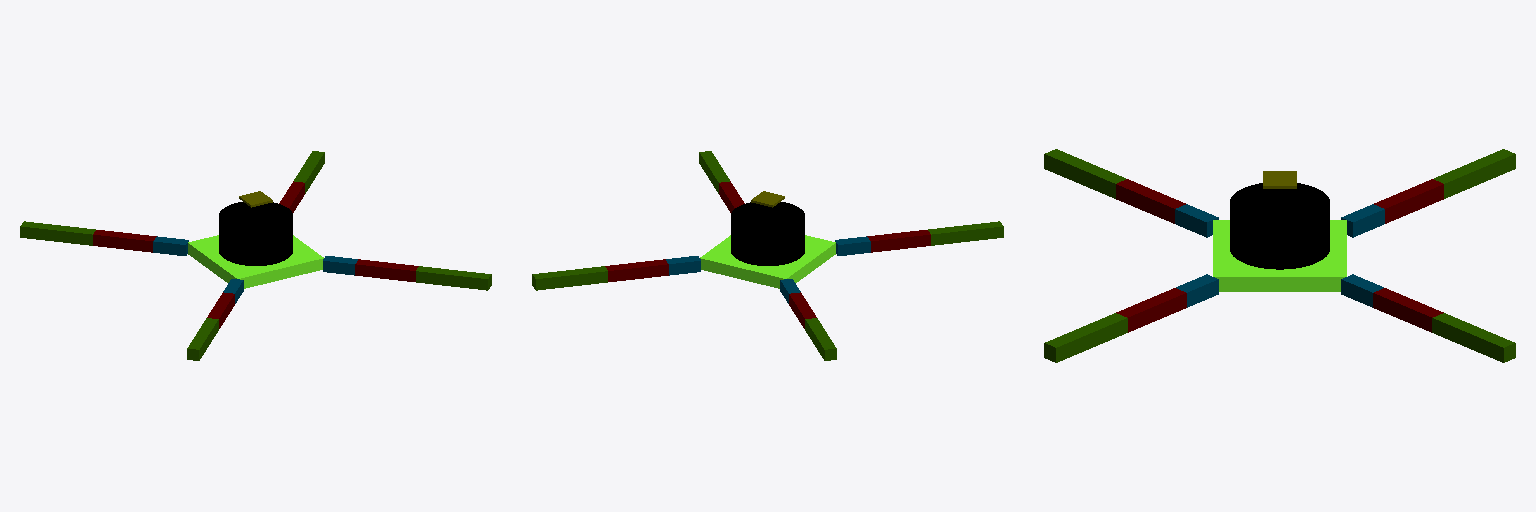
robot.urdf — robot:
<?xml version="1.0" encoding="utf-8"?>

<robot name="robot">
  <link name="base_footprint"></link>
  <joint name="base_joint" type="fixed">
    <parent link="base_footprint" />
    <child link="base_link" />
    <origin xyz="0 0 0.005" rpy="0 0 0" />
  </joint>
  <link name="base_link">
    <visual>
      <origin xyz="0 0 0" rpy="0 0 0" />
      <geometry>
        <box size="0.08 0.08 0.01" />
      </geometry>
      <material name="base_link-material">
        <color rgba="0.5 1 0.2 1" />
      </material>
    </visual>
    <collision>
      <origin xyz="0 0 0" rpy="0 0 0" />
      <geometry>
        <box size="0.08 0.08 0.01" />
      </geometry>
    </collision>
    <inertial>
      <origin xyz="0 0 0" rpy="0 0 0" />
      <mass value="0.1" />
      <inertia ixx="0.0" ixy="0" ixz="0" iyy="0.0" iyz="0" izz="0.0" />
    </inertial>
  </link>
  <joint name="FRcoxa" type="revolute">
    <parent link="base_link" />
    <child link="coxa1" />
    <origin xyz="0.04 0.04 0" rpy="0 0 -0.7853981633974485" />
    <axis xyz="0 0 1"/>
    <limit effort="0.0" lower="-1" upper="1" velocity="0.5"/>  </joint>
  <link name="coxa1">
    <visual>
      <origin xyz="0 0.0135 0" rpy="0 0 0" />
      <geometry>
        <box size="0.01 0.027 0.01" />
      </geometry>
      <material name="coxa1-material">
        <color rgba="0.0 0.3 0.4 1" />
      </material>
    </visual>
    <collision>
      <origin xyz="0 0.0135 0" rpy="0 0 0" />
      <geometry>
        <box size="0.01 0.027 0.01" />
      </geometry>
    </collision>
    <inertial>
      <origin xyz="0 0.0135 0" rpy="0 0 0" />
      <mass value="0.1" />
      <inertia ixx="0.0" ixy="0" ixz="0" iyy="0.0" iyz="0" izz="0.0" />
    </inertial>
  </link>
  <joint name="FRfemur" type="revolute">
    <parent link="coxa1" />
    <child link="femur1" />
    <origin xyz="0 0.027 0" rpy="3.141592653589793 -1.5707963267948966 3.141592653589793" />
    <axis xyz="0 0 1"/>
    <limit effort="0.0" lower="-1" upper="1" velocity="0.5"/>  </joint>
  <link name="femur1">
    <visual>
      <origin xyz="0 0.025 0" rpy="0 0 0" />
      <geometry>
        <box size="0.01 0.05 0.01" />
      </geometry>
      <material name="femur1-material">
        <color rgba="0.4 0.0 0.0 1" />
      </material>
    </visual>
    <collision>
      <origin xyz="0 0.025 0" rpy="0 0 0" />
      <geometry>
        <box size="0.01 0.05 0.01" />
      </geometry>
    </collision>
    <inertial>
      <origin xyz="0 0.025 0" rpy="0 0 0" />
      <mass value="0.1" />
      <inertia ixx="0.0" ixy="0" ixz="0" iyy="0.0" iyz="0" izz="0.0" />
    </inertial>
  </link>
  <joint name="FRtibia" type="revolute">
    <parent link="femur1" />
    <child link="tibia1" />
    <origin xyz="0 0.05 1.5407439555097887e-33" rpy="0 0 0" />
    <axis xyz="0 0 1"/>
    <limit effort="0.0" lower="-1" upper="1" velocity="0.5"/>  </joint>
  <link name="tibia1">
    <visual>
      <origin xyz="0 0.03 0" rpy="0 0 0" />
      <geometry>
        <box size="0.01 0.06 0.01" />
      </geometry>
      <material name="tibia1-material">
        <color rgba="0.2 0.4 0.0 1" />
      </material>
    </visual>
    <collision>
      <origin xyz="0 0.03 0" rpy="0 0 0" />
      <geometry>
        <box size="0.01 0.06 0.01" />
      </geometry>
    </collision>
    <inertial>
      <origin xyz="0 0.03 0" rpy="0 0 0" />
      <mass value="0.1" />
      <inertia ixx="0.0" ixy="0" ixz="0" iyy="0.0" iyz="0" izz="0.0" />
    </inertial>
  </link>
  <joint name="FLcoxa" type="revolute">
    <parent link="base_link" />
    <child link="coxa2" />
    <origin xyz="-0.04 0.04 0" rpy="0 0 0.7853981633974484" />
    <axis xyz="0 0 1"/>
    <limit effort="0.0" lower="-1" upper="1" velocity="0.5"/>  </joint>
  <link name="coxa2">
    <visual>
      <origin xyz="0 0.0135 0" rpy="0 0 0" />
      <geometry>
        <box size="0.01 0.027 0.01" />
      </geometry>
      <material name="coxa2-material">
        <color rgba="0.0 0.3 0.4 1" />
      </material>
    </visual>
    <collision>
      <origin xyz="0 0.0135 0" rpy="0 0 0" />
      <geometry>
        <box size="0.01 0.027 0.01" />
      </geometry>
    </collision>
    <inertial>
      <origin xyz="0 0.0135 0" rpy="0 0 0" />
      <mass value="0.1" />
      <inertia ixx="0.0" ixy="0" ixz="0" iyy="0.0" iyz="0" izz="0.0" />
    </inertial>
  </link>
  <joint name="FLfemur" type="revolute">
    <parent link="coxa2" />
    <child link="femur2" />
    <origin xyz="0 0.027 0" rpy="3.141592653589793 -1.5707963267948966 3.141592653589793" />
    <axis xyz="0 0 1"/>
    <limit effort="0.0" lower="-1" upper="1" velocity="0.5"/>  </joint>
  <link name="femur2">
    <visual>
      <origin xyz="0 0.025 0" rpy="0 0 0" />
      <geometry>
        <box size="0.01 0.05 0.01" />
      </geometry>
      <material name="femur2-material">
        <color rgba="0.4 0.0 0.0 1" />
      </material>
    </visual>
    <collision>
      <origin xyz="0 0.025 0" rpy="0 0 0" />
      <geometry>
        <box size="0.01 0.05 0.01" />
      </geometry>
    </collision>
    <inertial>
      <origin xyz="0 0.025 0" rpy="0 0 0" />
      <mass value="0.1" />
      <inertia ixx="0.0" ixy="0" ixz="0" iyy="0.0" iyz="0" izz="0.0" />
    </inertial>
  </link>
  <joint name="FLtibia" type="revolute">
    <parent link="femur2" />
    <child link="tibia2" />
    <origin xyz="0 0.05 1.5407439555097887e-33" rpy="0 0 0" />
    <axis xyz="0 0 1"/>
    <limit effort="0.0" lower="-1" upper="1" velocity="0.5"/>  </joint>
  <link name="tibia2">
    <visual>
      <origin xyz="0 0.03 0" rpy="0 0 0" />
      <geometry>
        <box size="0.01 0.06 0.01" />
      </geometry>
      <material name="tibia2-material">
        <color rgba="0.2 0.4 0.0 1" />
      </material>
    </visual>
    <collision>
      <origin xyz="0 0.03 0" rpy="0 0 0" />
      <geometry>
        <box size="0.01 0.06 0.01" />
      </geometry>
    </collision>
    <inertial>
      <origin xyz="0 0.03 0" rpy="0 0 0" />
      <mass value="0.1" />
      <inertia ixx="0.0" ixy="0" ixz="0" iyy="0.0" iyz="0" izz="0.0" />
    </inertial>
  </link>
  <joint name="BRcoxa" type="revolute">
    <parent link="base_link" />
    <child link="coxa3" />
    <origin xyz="0.04 -0.04 0" rpy="0 0 -2.356194490192345" />
    <axis xyz="0 0 1"/>
    <limit effort="0.0" lower="-1" upper="1" velocity="0.5"/>  </joint>
  <link name="coxa3">
    <visual>
      <origin xyz="0 0.0135 0" rpy="0 0 0" />
      <geometry>
        <box size="0.01 0.027 0.01" />
      </geometry>
      <material name="coxa3-material">
        <color rgba="0.0 0.3 0.4 1" />
      </material>
    </visual>
    <collision>
      <origin xyz="0 0.0135 0" rpy="0 0 0" />
      <geometry>
        <box size="0.01 0.027 0.01" />
      </geometry>
    </collision>
    <inertial>
      <origin xyz="0 0.0135 0" rpy="0 0 0" />
      <mass value="0.1" />
      <inertia ixx="0.0" ixy="0" ixz="0" iyy="0.0" iyz="0" izz="0.0" />
    </inertial>
  </link>
  <joint name="BRfemur" type="revolute">
    <parent link="coxa3" />
    <child link="femur3" />
    <origin xyz="0 0.027 0" rpy="3.141592653589793 -1.5707963267948966 3.141592653589793" />
    <axis xyz="0 0 1"/>
    <limit effort="0.0" lower="-1" upper="1" velocity="0.5"/>  </joint>
  <link name="femur3">
    <visual>
      <origin xyz="0 0.025 0" rpy="0 0 0" />
      <geometry>
        <box size="0.01 0.05 0.01" />
      </geometry>
      <material name="femur3-material">
        <color rgba="0.4 0.0 0.0 1" />
      </material>
    </visual>
    <collision>
      <origin xyz="0 0.025 0" rpy="0 0 0" />
      <geometry>
        <box size="0.01 0.05 0.01" />
      </geometry>
    </collision>
    <inertial>
      <origin xyz="0 0.025 0" rpy="0 0 0" />
      <mass value="0.1" />
      <inertia ixx="0.0" ixy="0" ixz="0" iyy="0.0" iyz="0" izz="0.0" />
    </inertial>
  </link>
  <joint name="BRtibia" type="revolute">
    <parent link="femur3" />
    <child link="tibia3" />
    <origin xyz="0 0.05 1.5407439555097887e-33" rpy="0 0 0" />
    <axis xyz="0 0 1"/>
    <limit effort="0.0" lower="-1" upper="1" velocity="0.5"/>  </joint>
  <link name="tibia3">
    <visual>
      <origin xyz="0 0.03 0" rpy="0 0 0" />
      <geometry>
        <box size="0.01 0.06 0.01" />
      </geometry>
      <material name="tibia3-material">
        <color rgba="0.2 0.4 0.0 1" />
      </material>
    </visual>
    <collision>
      <origin xyz="0 0.03 0" rpy="0 0 0" />
      <geometry>
        <box size="0.01 0.06 0.01" />
      </geometry>
    </collision>
    <inertial>
      <origin xyz="0 0.03 0" rpy="0 0 0" />
      <mass value="0.1" />
      <inertia ixx="0.0" ixy="0" ixz="0" iyy="0.0" iyz="0" izz="0.0" />
    </inertial>
  </link>
  <joint name="BLcoxa" type="revolute">
    <parent link="base_link" />
    <child link="coxa4" />
    <origin xyz="-0.04 -0.04 0" rpy="0 0 2.356194490192345" />
    <axis xyz="0 0 1"/>
    <limit effort="0.0" lower="-1" upper="1" velocity="0.5"/>  </joint>
  <link name="coxa4">
    <visual>
      <origin xyz="0 0.0135 0" rpy="0 0 0" />
      <geometry>
        <box size="0.01 0.027 0.01" />
      </geometry>
      <material name="coxa4-material">
        <color rgba="0.0 0.3 0.4 1" />
      </material>
    </visual>
    <collision>
      <origin xyz="0 0.0135 0" rpy="0 0 0" />
      <geometry>
        <box size="0.01 0.027 0.01" />
      </geometry>
    </collision>
    <inertial>
      <origin xyz="0 0.0135 0" rpy="0 0 0" />
      <mass value="0.1" />
      <inertia ixx="0.0" ixy="0" ixz="0" iyy="0.0" iyz="0" izz="0.0" />
    </inertial>
  </link>
  <joint name="BLfemur" type="revolute">
    <parent link="coxa4" />
    <child link="femur4" />
    <origin xyz="0 0.027 0" rpy="3.141592653589793 -1.5707963267948966 3.141592653589793" />
    <axis xyz="0 0 1"/>
    <limit effort="0.0" lower="-1" upper="1" velocity="0.5"/>  </joint>
  <link name="femur4">
    <visual>
      <origin xyz="0 0.025 0" rpy="0 0 0" />
      <geometry>
        <box size="0.01 0.05 0.01" />
      </geometry>
      <material name="femur4-material">
        <color rgba="0.4 0.0 0.0 1" />
      </material>
    </visual>
    <collision>
      <origin xyz="0 0.025 0" rpy="0 0 0" />
      <geometry>
        <box size="0.01 0.05 0.01" />
      </geometry>
    </collision>
    <inertial>
      <origin xyz="0 0.025 0" rpy="0 0 0" />
      <mass value="0.1" />
      <inertia ixx="0.0" ixy="0" ixz="0" iyy="0.0" iyz="0" izz="0.0" />
    </inertial>
  </link>
  <joint name="BLtibia" type="revolute">
    <parent link="femur4" />
    <child link="tibia4" />
    <origin xyz="0 0.05 1.5407439555097887e-33" rpy="0 0 0" />
    <axis xyz="0 0 1"/>
    <limit effort="0.0" lower="-1" upper="1" velocity="0.5"/>  </joint>
  <link name="tibia4">
    <visual>
      <origin xyz="0 0.03 0" rpy="0 0 0" />
      <geometry>
        <box size="0.01 0.06 0.01" />
      </geometry>
      <material name="tibia4-material">
        <color rgba="0.2 0.4 0.0 1" />
      </material>
    </visual>
    <collision>
      <origin xyz="0 0.03 0" rpy="0 0 0" />
      <geometry>
        <box size="0.01 0.06 0.01" />
      </geometry>
    </collision>
    <inertial>
      <origin xyz="0 0.03 0" rpy="0 0 0" />
      <mass value="0.1" />
      <inertia ixx="0.0" ixy="0" ixz="0" iyy="0.0" iyz="0" izz="0.0" />
    </inertial>
  </link>
  <joint name="laser_joint" type="fixed">
    <parent link="base_link" />
    <child link="lidar" />
    <origin xyz="0 0 0.02" rpy="0 0 0" />
    <axis xyz="0 0 1"/>
  </joint>
  <link name="lidar">
    <visual>
      <origin xyz="0 0 0" rpy="0 0 0" />
      <geometry>
        <cylinder radius="0.03" length="0.03" />
      </geometry>
      <material name="lidar-material">
        <color rgba="0 0 0 1" />
      </material>
    </visual>
    <collision>
      <origin xyz="0 0 0" rpy="0 0 0" />
      <geometry>
        <cylinder radius="0.03" length="0.03" />
      </geometry>
    </collision>
    <inertial>
      <origin xyz="0 0 0" rpy="0 0 0" />
      <mass value="0.1" />
      <inertia ixx="0.3333333333333333" ixy="0" ixz="0" iyy="0.5" iyz="0" izz="0.3333333333333333" />
    </inertial>
  </link>
  <joint name="imu_joint" type="fixed">
    <parent link="base_link"/>
    <child link="imu_link"/>
    <origin xyz="0 0 0.05" rpy="0 0 0"/>
  </joint>
  <link name="imu_link">
    <visual>
      <origin xyz="0 0.0 0" rpy="0 0 0" />
      <geometry>
        <box size="0.02 0.02 0.002" />
      </geometry>
      <material name="tibia4-material">
        <color rgba="0.4 0.4 0.0 1" />
      </material>
    </visual>
    <collision>
      <origin xyz="0 0.0 0" rpy="0 0 0" />
      <geometry>
        <box size="0.02 0.02 0.002" />
      </geometry>
    </collision>
    <inertial>
      <origin xyz="0 0.0 0" rpy="0 0 0" />
      <mass value="0.01" />
      <inertia ixx="0.0" ixy="0" ixz="0" iyy="0.0" iyz="0" izz="0.0" />
    </inertial>
  </link>

</robot>

--- Render facts (derived) ---
Views: 3 orthographic renders of the robot side by side, from view 1: azimuth 30°, elevation 25°; view 2: azimuth 150°, elevation 25°; view 3: azimuth 270°, elevation 25°.
Model robot with 16 links and 15 joints (12 revolute, 3 fixed), rooted at base_footprint, posed every joint at zero.
Links seen in each view (by area): view 1: lidar, base_link, tibia3, tibia2, femur3, femur2, tibia4, tibia1, coxa2, coxa3; view 2: lidar, base_link, tibia1, tibia4, femur1, femur4, tibia2, tibia3, coxa4, coxa1; view 3: lidar, base_link, tibia1, tibia3, tibia2, tibia4, femur2, femur4, femur1, femur3, coxa2, coxa4 (+3 smaller).
Boxes of the visible links, <box> form: lidar: <box>219,202,292,265</box>; base_link: <box>188,235,323,288</box>; tibia3: <box>416,266,491,290</box>; tibia2: <box>20,221,95,245</box>; femur3: <box>355,259,418,281</box>; femur2: <box>93,230,156,252</box>; tibia4: <box>187,318,218,360</box>; tibia1: <box>294,151,324,193</box>; coxa2: <box>153,236,188,255</box>; coxa3: <box>323,256,357,275</box>; lidar: <box>731,202,804,265</box>; base_link: <box>700,235,835,288</box>; tibia1: <box>532,266,607,290</box>; tibia4: <box>928,221,1003,245</box>; femur1: <box>605,259,668,281</box>; femur4: <box>867,230,930,252</box>; tibia2: <box>805,318,836,360</box>; tibia3: <box>699,151,729,193</box>; coxa4: <box>835,236,870,255</box>; coxa1: <box>666,256,700,275</box>; lidar: <box>1230,183,1329,269</box>; base_link: <box>1213,220,1346,291</box>; tibia1: <box>1432,313,1515,362</box>; tibia3: <box>1044,313,1127,362</box>; tibia2: <box>1434,149,1515,198</box>; tibia4: <box>1044,149,1125,198</box>; femur2: <box>1374,179,1443,223</box>; femur4: <box>1116,179,1185,223</box>; femur1: <box>1373,288,1443,332</box>; femur3: <box>1116,288,1186,332</box>; coxa2: <box>1341,204,1384,237</box>; coxa4: <box>1175,204,1218,237</box>.
Bounding box of the posed robot: 0.2808 × 0.2808 × 0.056 m (x, y, z).
Geometry: primitives only (box / cylinder / sphere), no mesh files.